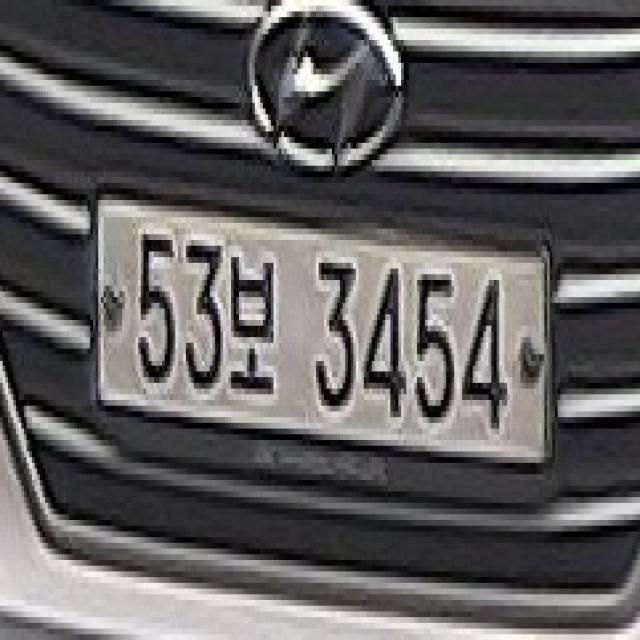3: (307, 244, 357, 429), (184, 225, 223, 404)
4: (363, 256, 408, 432), (460, 272, 508, 436)
5: (412, 266, 457, 444), (134, 221, 178, 395)
bo: (227, 235, 280, 422)
license_plate: (86, 168, 559, 495)
